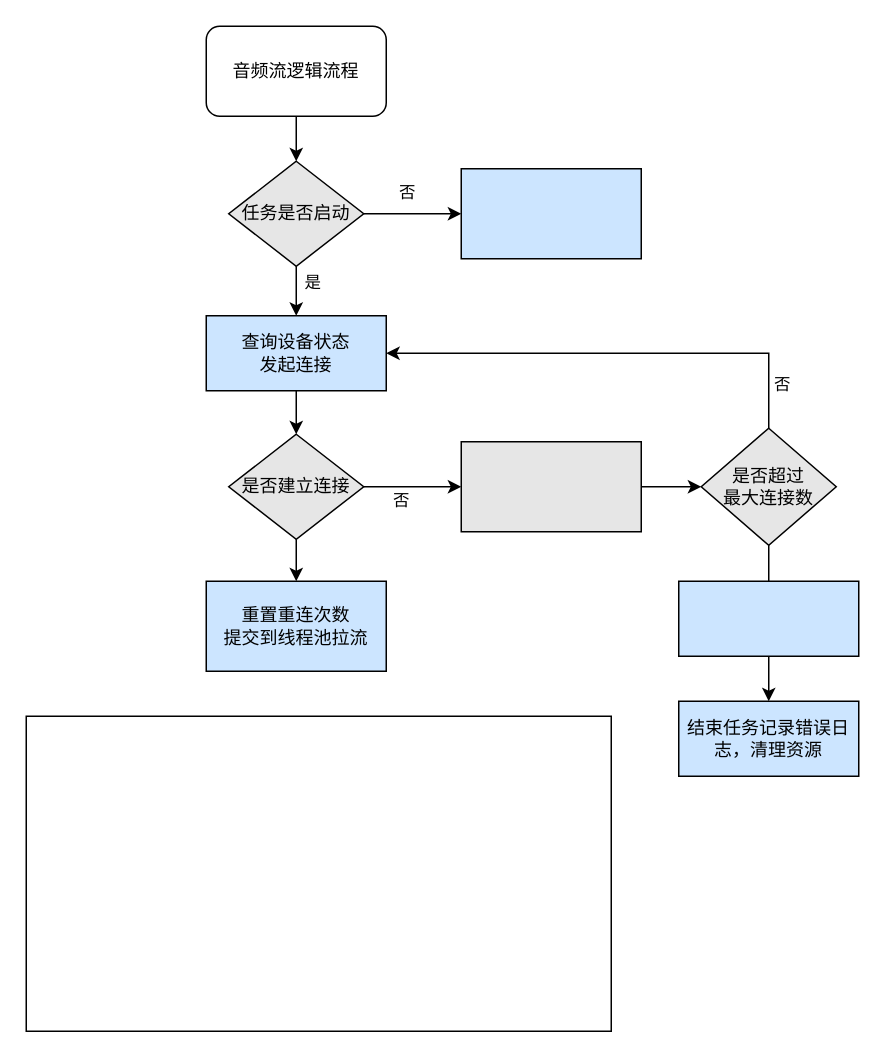
The diagram is 885 pixels wide and 1058 high, and some of its shapes have lost their labels. Each missing label, with the centre of its shape:
更新任务超时连接 设备为离线: pixel 768 618
清理资源结束线程: pixel 550 213
重连次数加一: pixel 550 486
